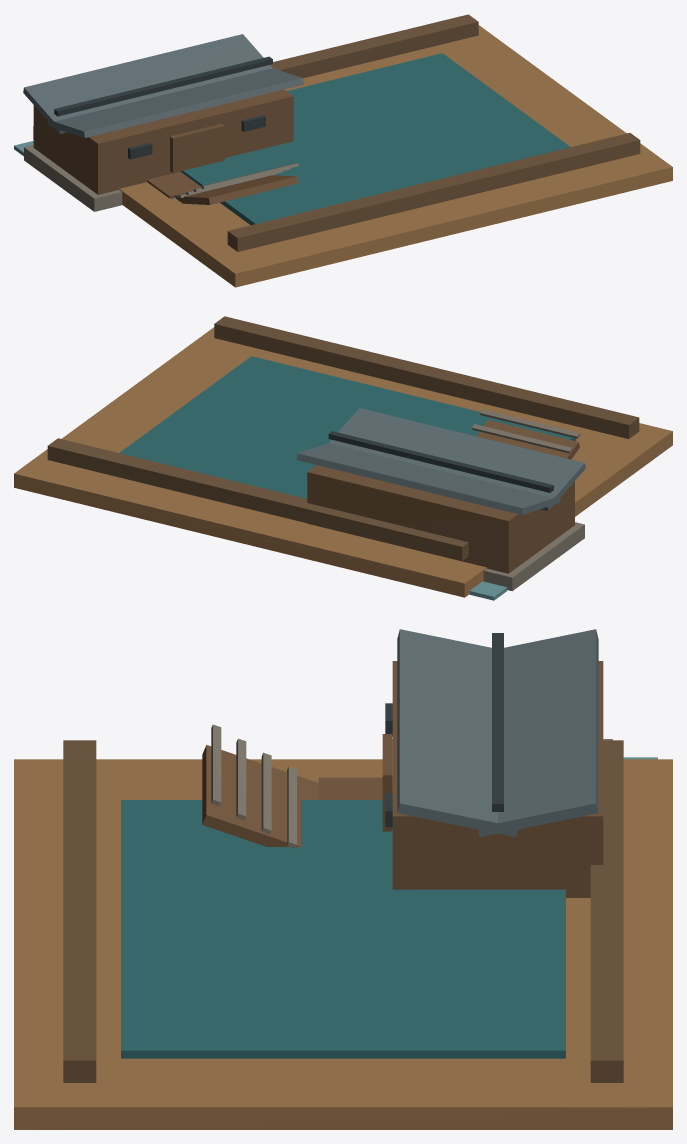
File: duckpond.glb
The picture shows the model from 3 angles, top to bottom: view 1: azimuth 30°, elevation 25°; view 2: azimuth 150°, elevation 25°; view 3: azimuth 270°, elevation 25°; orthographic projection. The views are drawn at different scales.
Parts seen in each view (by area): view 1: pond-static-pond-teal, pond-static-pond-earth, wind-pump-static-duck-house-waterproof-timber, pond-static-pond-timber, wind-pump-static-duck-house-galvanized-roof, wind-pump-static-duck-house-stone-curb, wind-pump-static-duck-house-dark-iron; view 2: pond-static-pond-earth, pond-static-pond-teal, pond-static-pond-timber, wind-pump-static-duck-house-galvanized-roof, wind-pump-static-duck-house-waterproof-timber, wind-pump-static-duck-house-stone-curb, wind-pump-static-duck-house-dark-iron, wind-pump-static-duck-house-drainage-blue-gray; view 3: pond-static-pond-teal, pond-static-pond-earth, wind-pump-static-duck-house-galvanized-roof, wind-pump-static-duck-house-waterproof-timber, pond-static-pond-timber, wind-pump-static-duck-house-stone-curb, wind-pump-static-duck-house-dark-iron.
Boxes of the visible parts, x1=… form: pond-static-pond-teal: x1=180, y1=53, x2=570, y2=224; pond-static-pond-earth: x1=33, y1=25, x2=672, y2=287; wind-pump-static-duck-house-waterproof-timber: x1=33, y1=89, x2=298, y2=204; pond-static-pond-timber: x1=227, y1=14, x2=640, y2=251; wind-pump-static-duck-house-galvanized-roof: x1=23, y1=34, x2=303, y2=137; wind-pump-static-duck-house-stone-curb: x1=24, y1=145, x2=298, y2=211; wind-pump-static-duck-house-dark-iron: x1=54, y1=56, x2=272, y2=159; pond-static-pond-earth: x1=14, y1=327, x2=672, y2=597; pond-static-pond-teal: x1=119, y1=356, x2=575, y2=498; pond-static-pond-timber: x1=47, y1=316, x2=639, y2=560; wind-pump-static-duck-house-galvanized-roof: x1=296, y1=408, x2=585, y2=514; wind-pump-static-duck-house-waterproof-timber: x1=307, y1=420, x2=579, y2=573; wind-pump-static-duck-house-stone-curb: x1=472, y1=409, x2=584, y2=591; wind-pump-static-duck-house-dark-iron: x1=328, y1=431, x2=553, y2=492; wind-pump-static-duck-house-drainage-blue-gray: x1=469, y1=581, x2=507, y2=600; pond-static-pond-teal: x1=121, y1=800, x2=565, y2=1058; pond-static-pond-earth: x1=14, y1=759, x2=672, y2=1129; wind-pump-static-duck-house-galvanized-roof: x1=397, y1=629, x2=598, y2=836; wind-pump-static-duck-house-waterproof-timber: x1=202, y1=661, x2=603, y2=897; pond-static-pond-timber: x1=63, y1=740, x2=623, y2=1082; wind-pump-static-duck-house-stone-curb: x1=211, y1=724, x2=612, y2=848; wind-pump-static-duck-house-dark-iron: x1=385, y1=633, x2=503, y2=827.
Bounding box in the file's own units: 4.3 × 0.6812 × 3.2.
